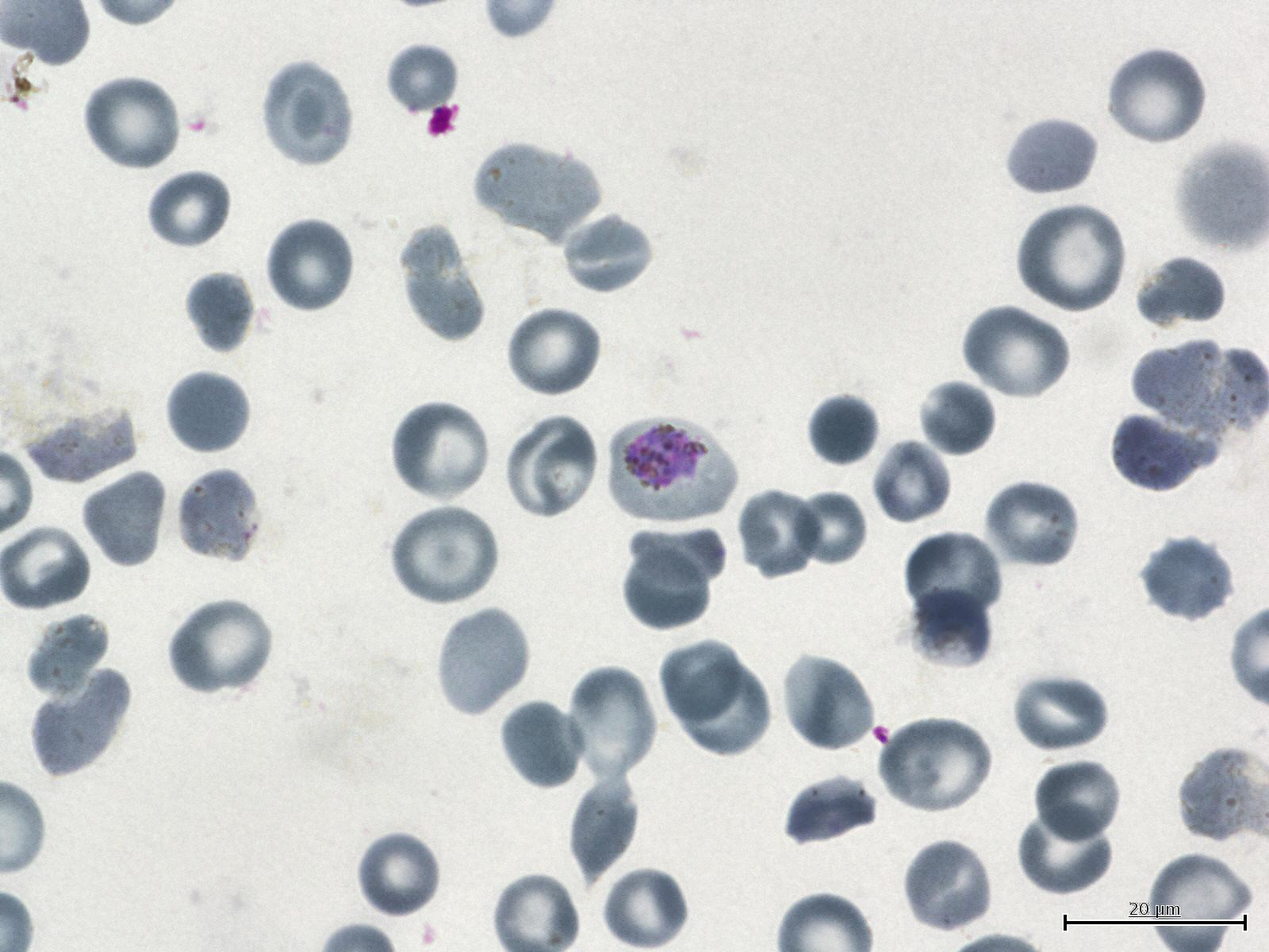Infected: (608, 415, 738, 522)
Uninfected: (1133, 338, 1267, 435), (474, 144, 608, 236), (1018, 206, 1124, 313), (27, 668, 129, 778), (880, 717, 991, 815), (393, 505, 499, 605), (435, 609, 529, 717), (964, 304, 1069, 400), (1106, 46, 1206, 146), (1148, 853, 1248, 952), (393, 400, 491, 501), (170, 599, 272, 695), (399, 231, 487, 342), (567, 666, 657, 774), (83, 75, 182, 171), (674, 663, 773, 759), (1175, 746, 1268, 848), (261, 66, 354, 167), (21, 403, 134, 486), (1104, 415, 1218, 496), (508, 416, 599, 516), (1018, 804, 1116, 895), (81, 467, 170, 567), (783, 655, 876, 750), (507, 305, 603, 397), (903, 532, 1001, 622), (984, 478, 1079, 569), (904, 838, 994, 934), (266, 218, 355, 313), (1011, 671, 1110, 755), (568, 770, 640, 885), (0, 524, 93, 613), (1033, 757, 1125, 846), (175, 466, 260, 562), (1140, 535, 1233, 621), (500, 698, 587, 789), (559, 213, 654, 296), (735, 487, 820, 578), (163, 368, 251, 455), (355, 831, 442, 918), (600, 864, 686, 949), (147, 168, 233, 251), (623, 546, 707, 629), (871, 440, 953, 525), (24, 610, 107, 692), (1136, 255, 1225, 331), (790, 487, 873, 566), (784, 777, 878, 846), (181, 270, 258, 354), (1003, 122, 1095, 192), (909, 589, 990, 665), (918, 380, 995, 457), (384, 41, 461, 118), (664, 642, 740, 720), (806, 392, 881, 469), (631, 528, 727, 587)
